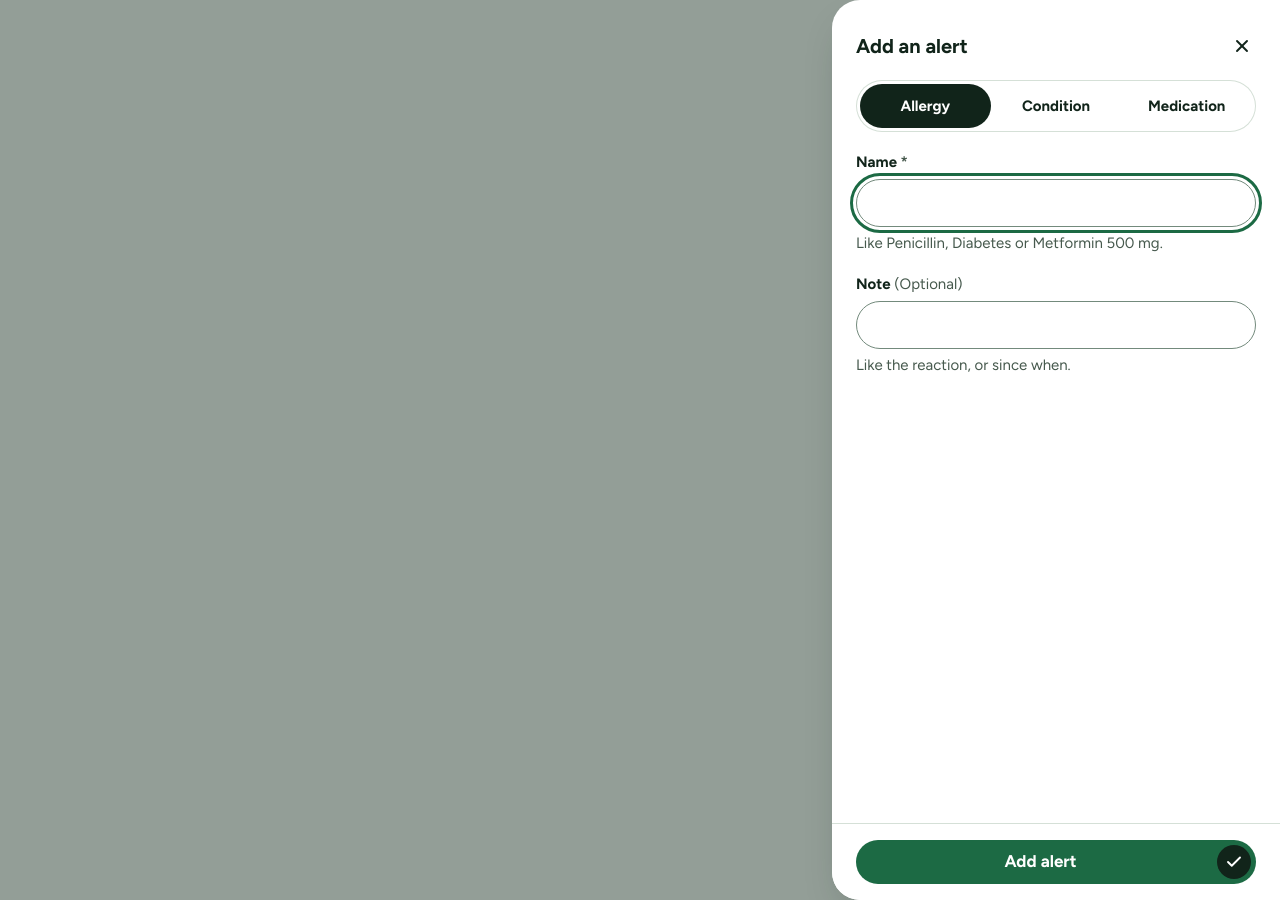
Test case: AlertSheet adding an alert (plan §10.4) › asks for a name, then adds an allergy by default and says so
Expected: the radio button labelled "Allergy" is checked, left=860, top=84, right=991, bottom=128
Click the button "Add alert" at x=1056, y=862, box left=856, top=840, right=1256, bottom=884
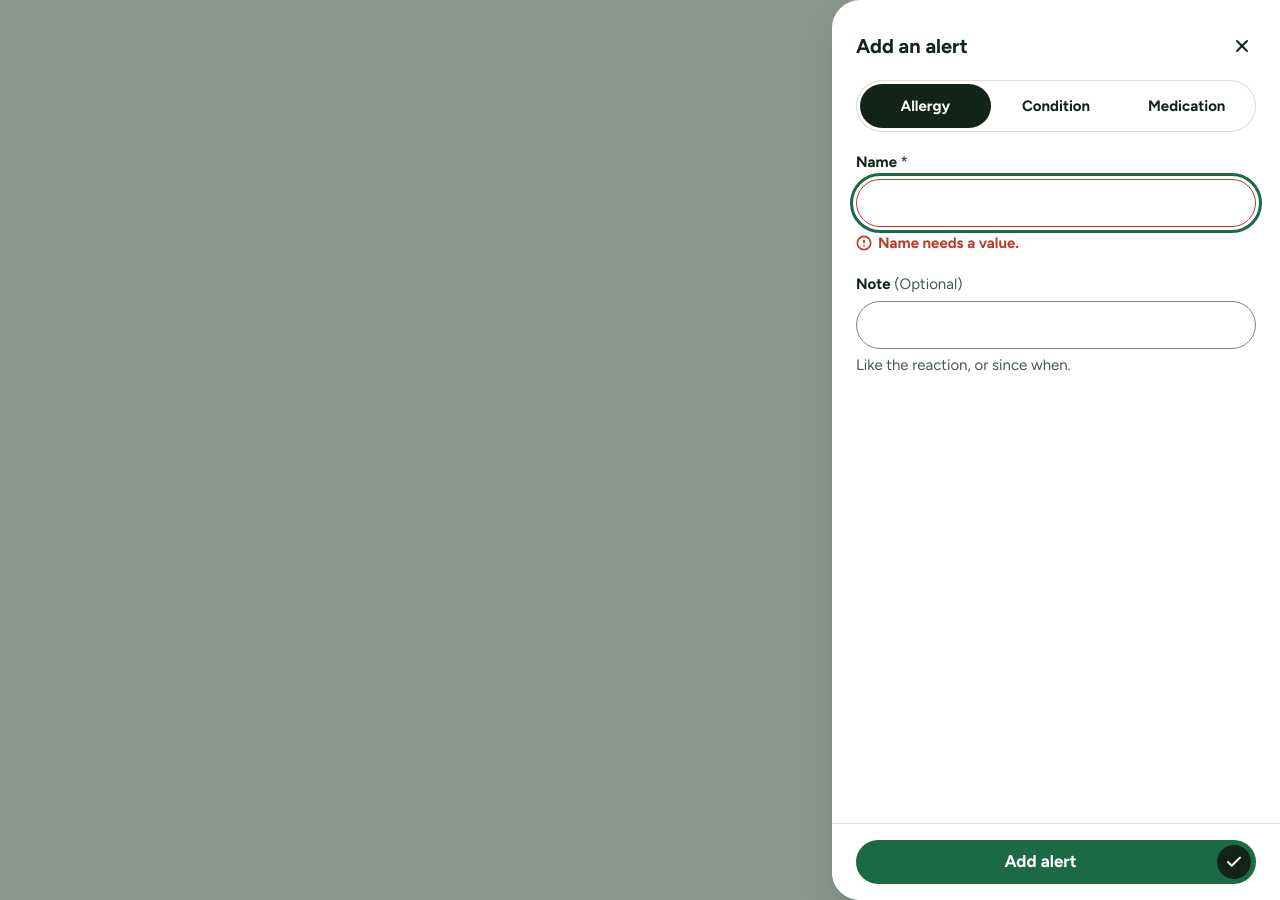
Now the text "Name needs a value." is shown, box left=856, top=234, right=1019, bottom=252
Type " Peanuts " into the field labelled "Name *" at x=1056, y=203, box left=856, top=179, right=1256, bottom=227
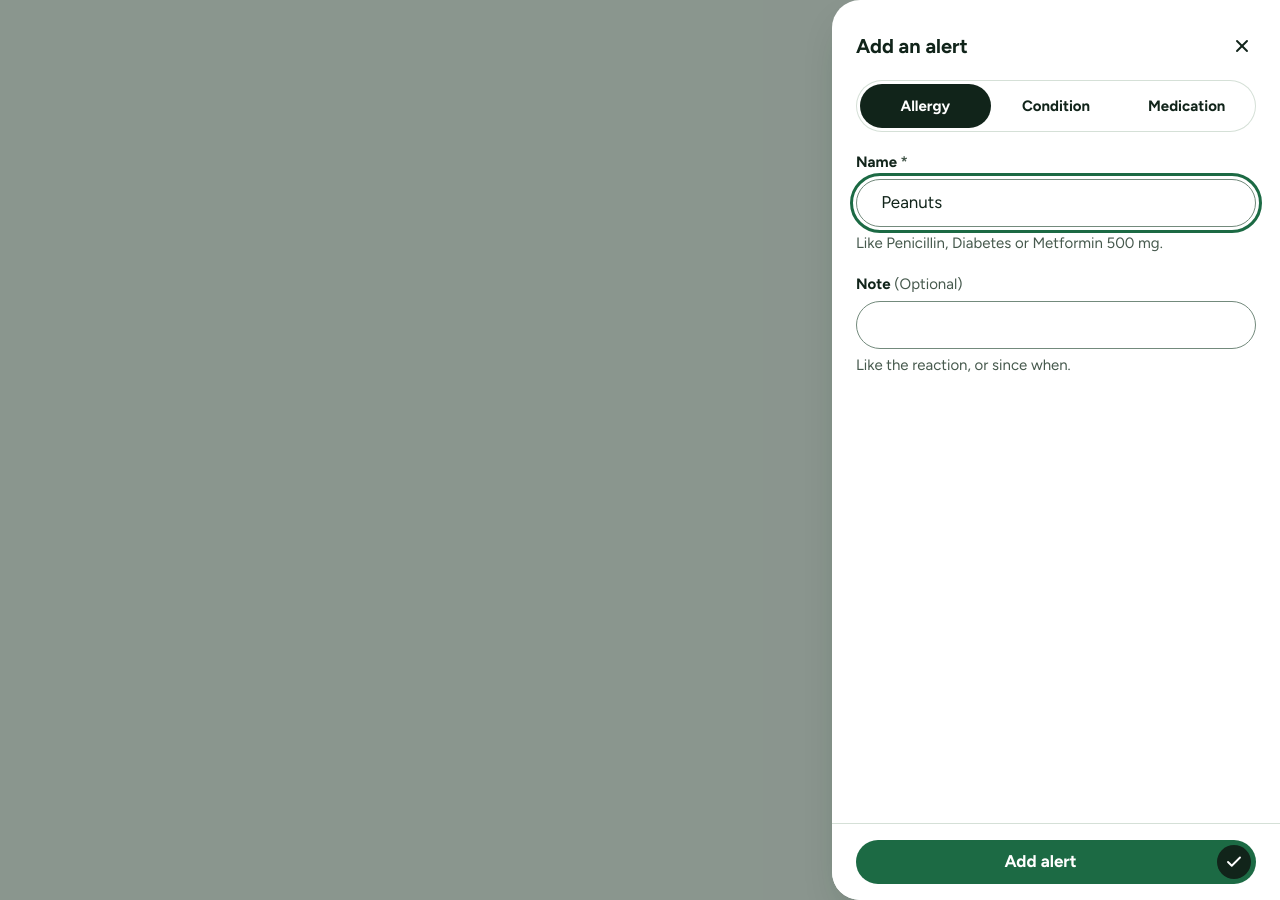
Click the button "Add alert" at x=1056, y=862, box left=856, top=840, right=1256, bottom=884
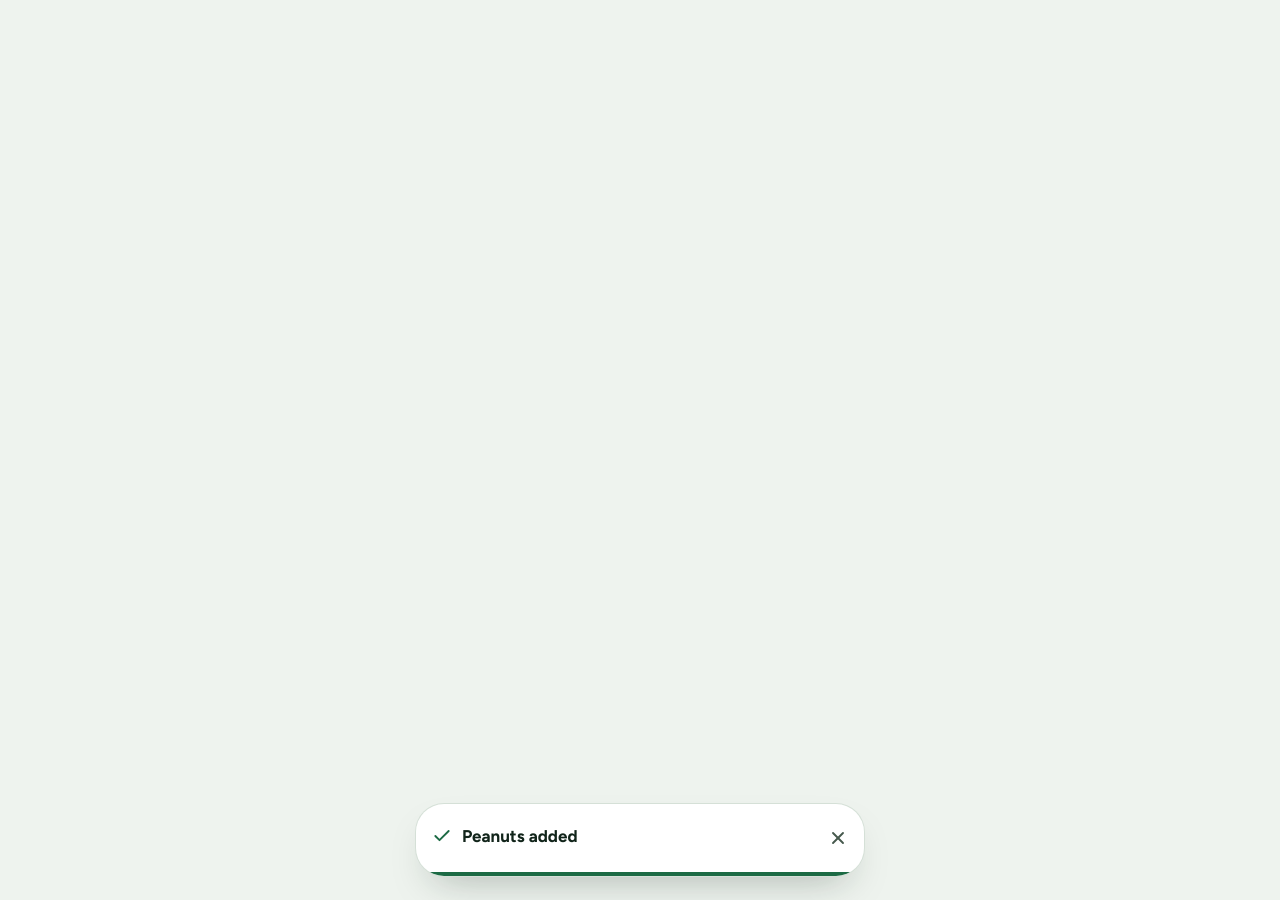
Now the text "Peanuts added" is shown, box left=462, top=826, right=578, bottom=846
